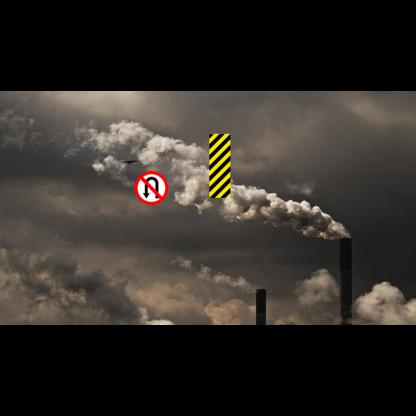O-MP: (209, 134, 230, 198)
R-5a: (134, 171, 168, 205)
